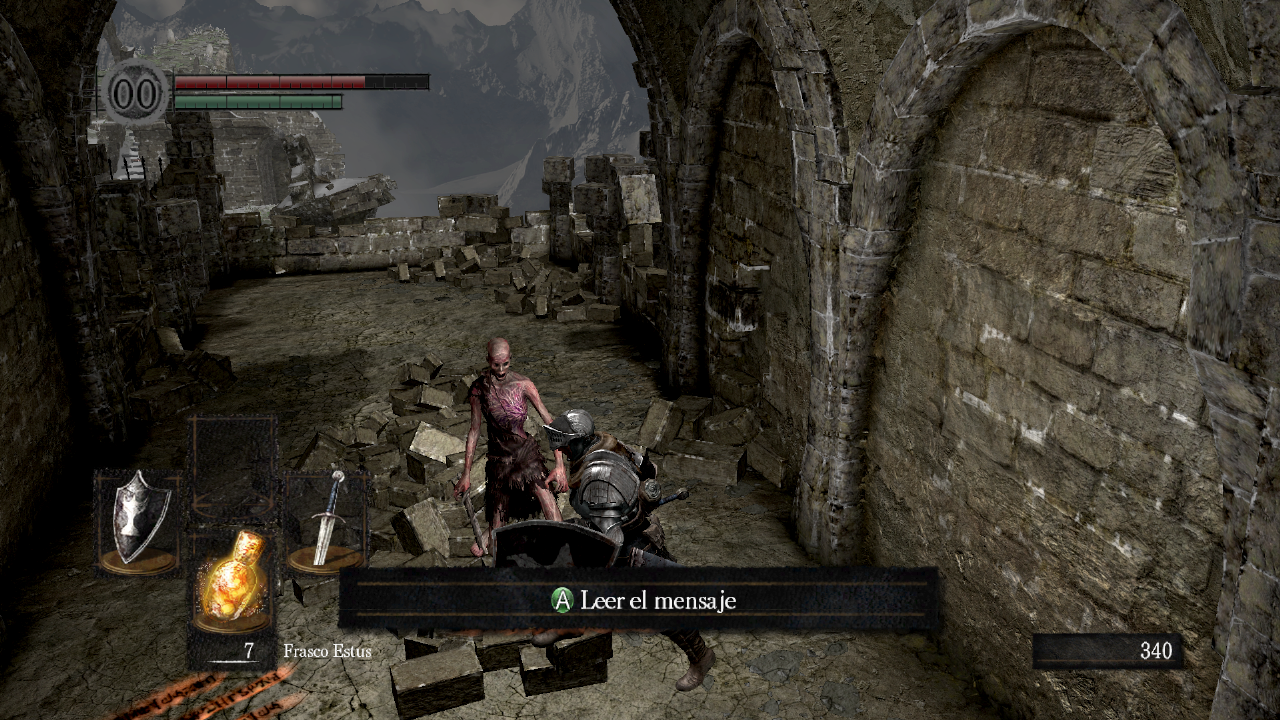dialogBox: (338, 569, 937, 629)
hollow: (453, 337, 568, 558)
player: (492, 408, 717, 691)
